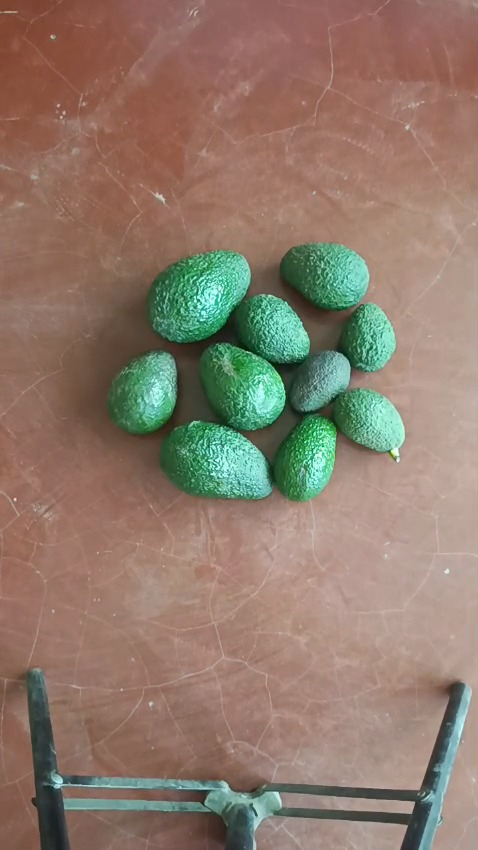Primera: (147, 250, 251, 343), (160, 421, 274, 499), (198, 342, 286, 430)
Segunda: (280, 242, 370, 310), (107, 350, 179, 434), (232, 292, 311, 364), (272, 414, 338, 500)
Tercera: (331, 387, 406, 455), (338, 303, 396, 373), (288, 349, 351, 413)
